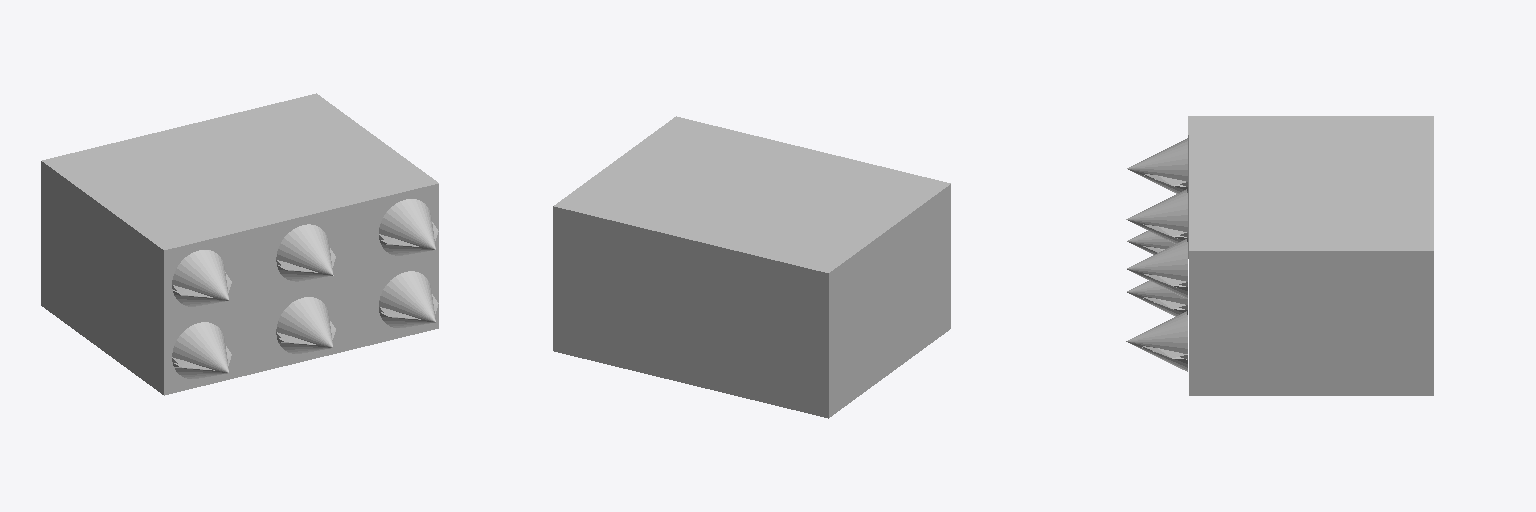
File: missilePack.obj
3 renders of one model, left to right at view 1: azimuth 30°, elevation 25°; view 2: azimuth 150°, elevation 25°; view 3: azimuth 270°, elevation 25°, orthographic.
Visible parts, largest first — view 1: Figure 1; view 2: Figure 1; view 3: Figure 1.
Boxes of the visible parts, x1=… form: Figure 1: x1=41, y1=93, x2=438, y2=395; Figure 1: x1=553, y1=116, x2=950, y2=418; Figure 1: x1=1126, y1=116, x2=1433, y2=395.
Size of the model in its own units: 4.38 by 2.21 by 4.25.